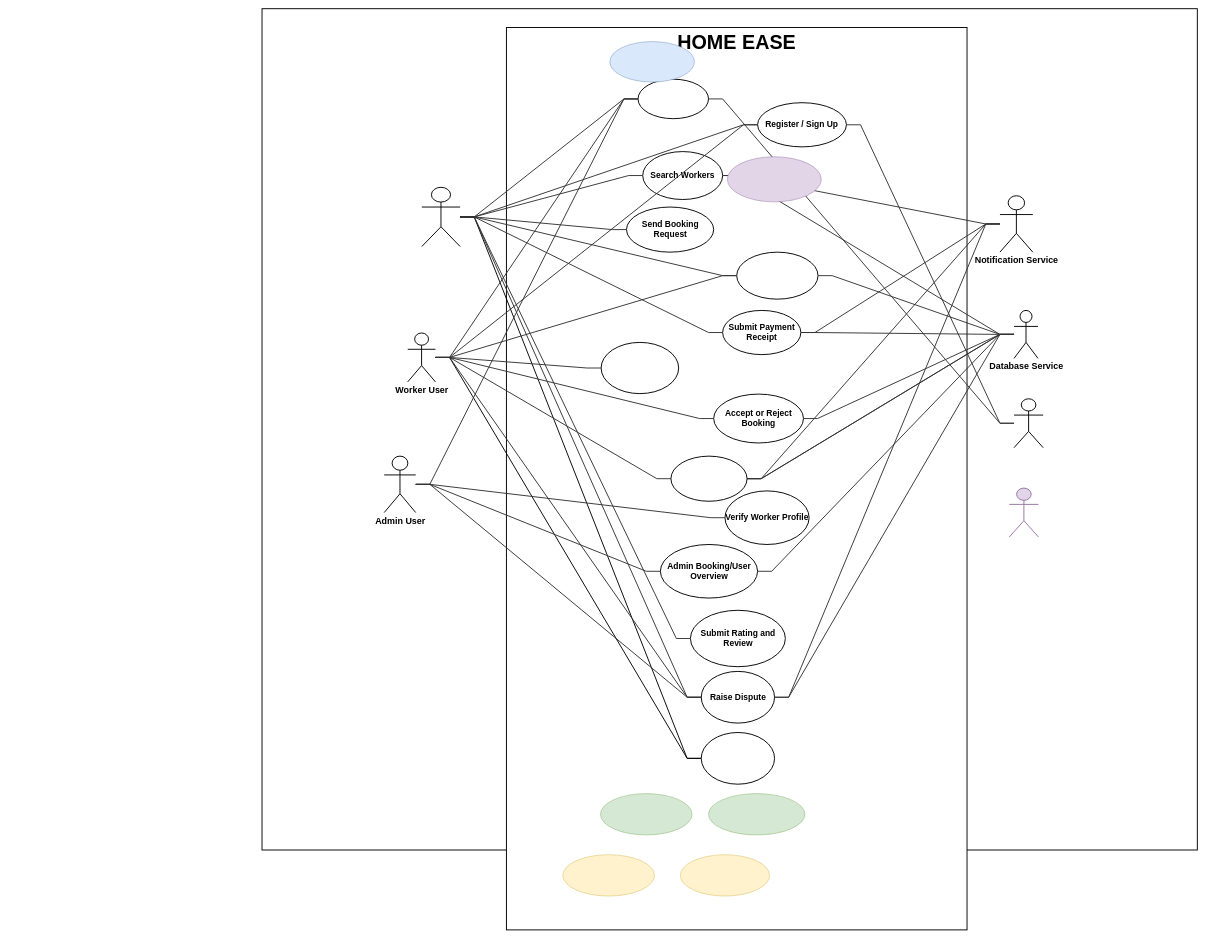
The diagram is 1214 pixels wide and 938 high, and some of its shapes have lost their labels. Here are the shapes that lost their labels. From the top down, the centre of each, then its label:
At pixel 673 98: "Log In".
At pixel 440 217: "Household User".
At pixel 777 275: "View Service Agreement".
At pixel 639 368: "Create Worker Profile".
At pixel 1028 423: "Authentication Service".
At pixel 708 478: "Confirm Payment Received".
At pixel 738 758: "Logout".
